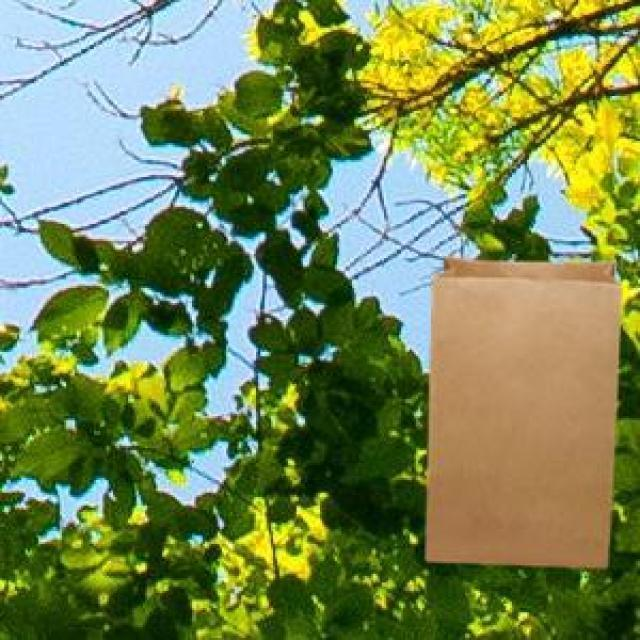paper: (422, 254, 617, 563)
